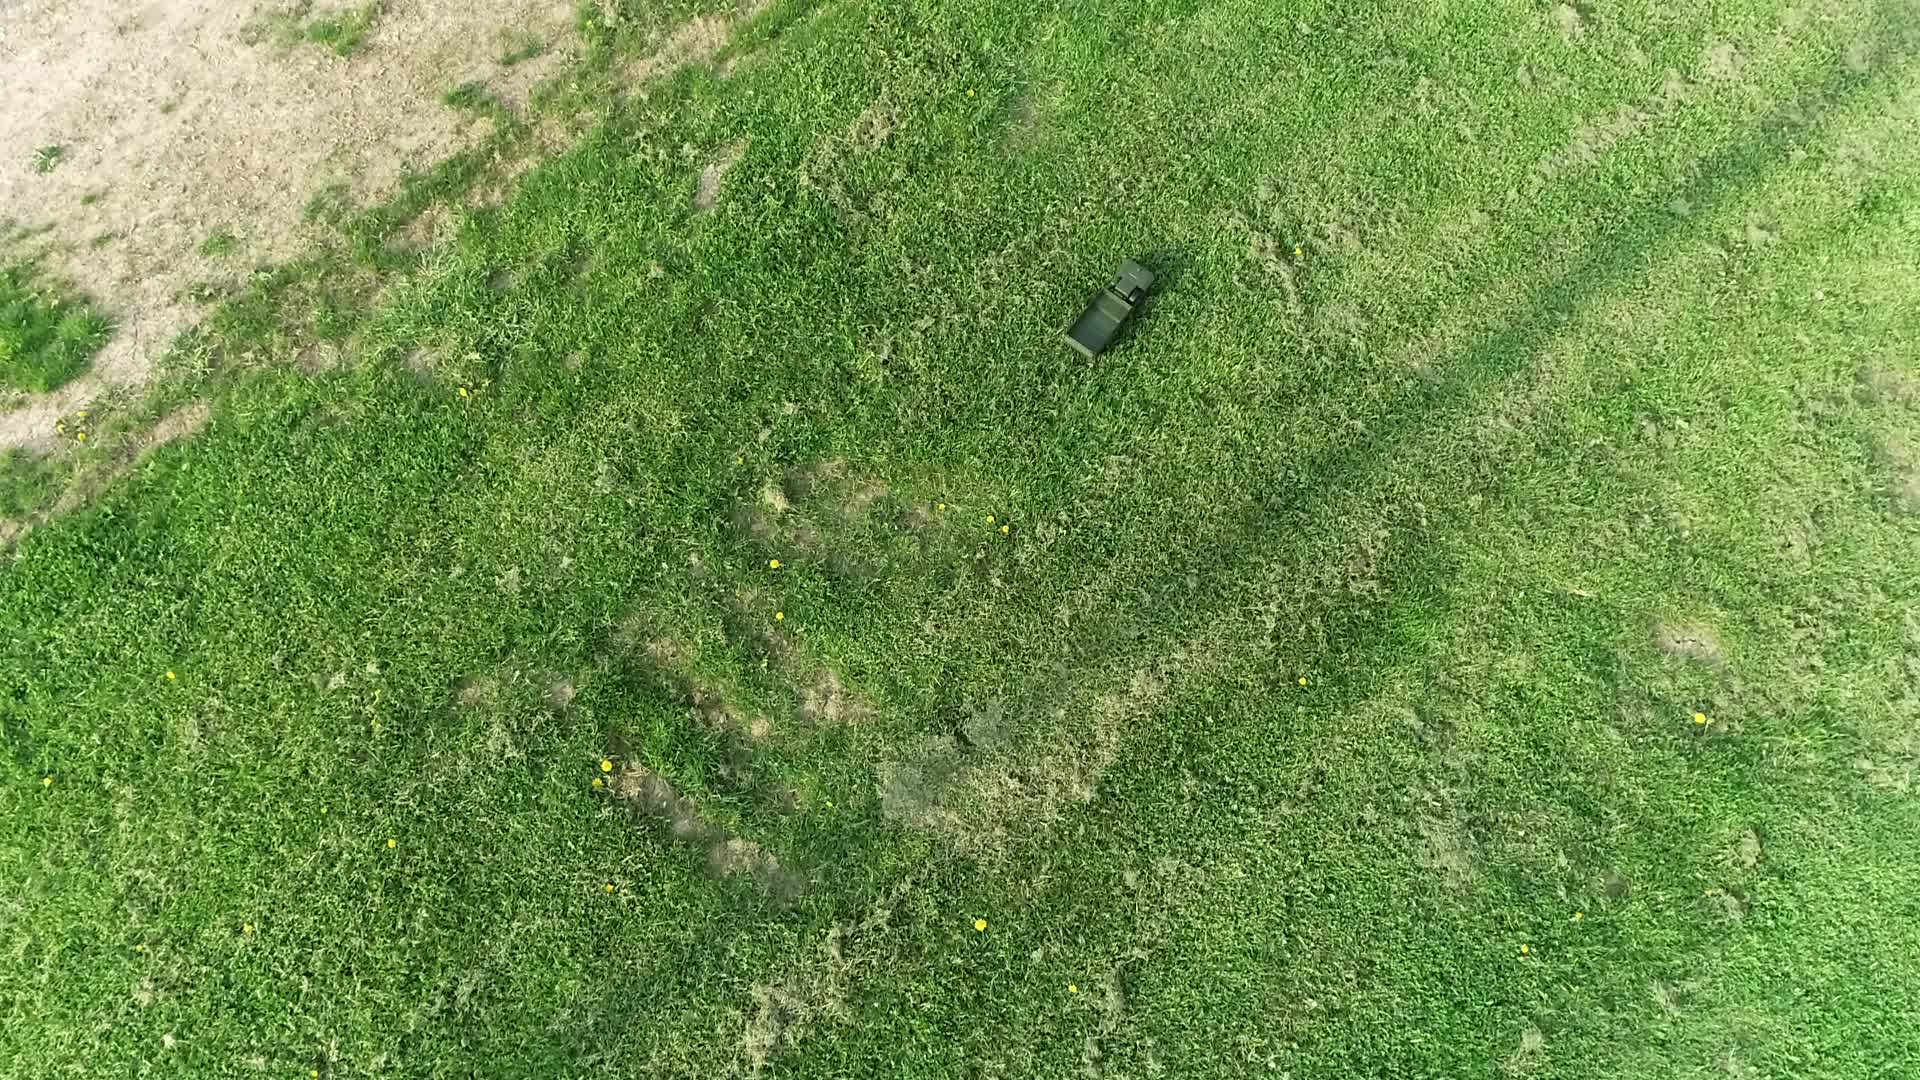transporter9: (1060, 255, 1159, 367)
